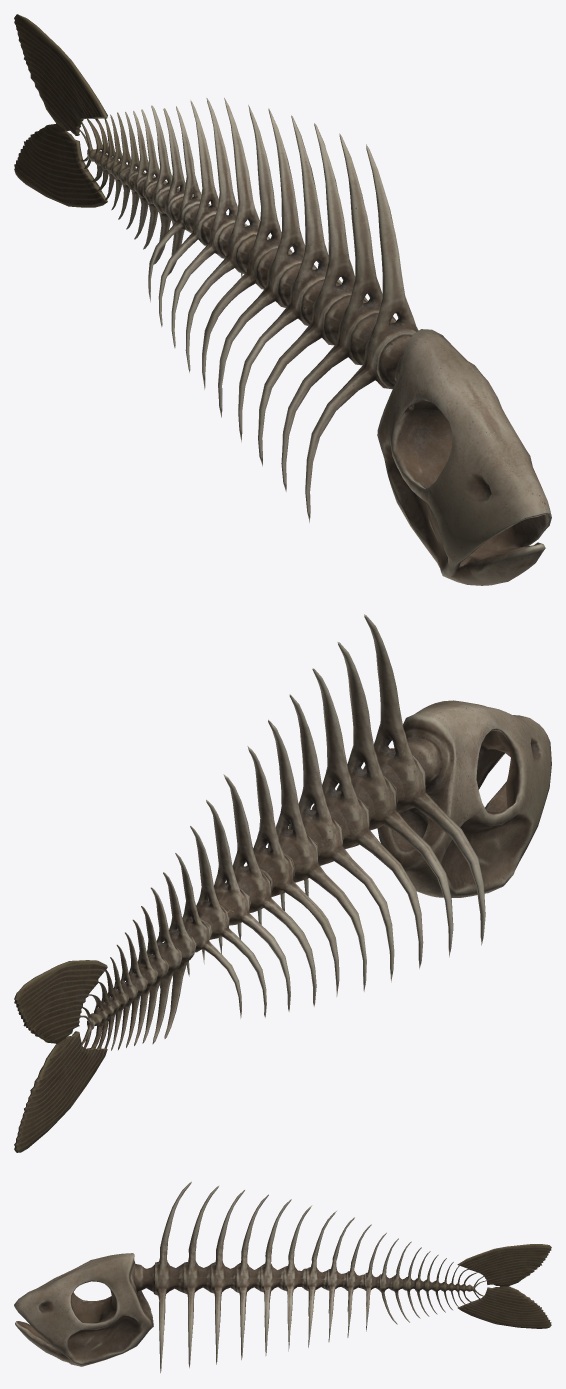
The model's file is untitled-reduced-tex.glb.
3 views of the same model, one above another, from view 1: azimuth 30°, elevation 25°; view 2: azimuth 150°, elevation 25°; view 3: azimuth 270°, elevation 25° (orthographic). The views are drawn at different scales.
Parts seen in each view (by area): view 1: Fish; view 2: Fish; view 3: Fish.
Boxes of the visible parts, bbox=[...] form: Fish: bbox=[14, 14, 551, 585]; Fish: bbox=[14, 614, 551, 1152]; Fish: bbox=[14, 1181, 551, 1373].
Bounding box in the file's own units: 3.84 × 7.17 × 19.13.
Materials: 1 (1 with a texture image).
